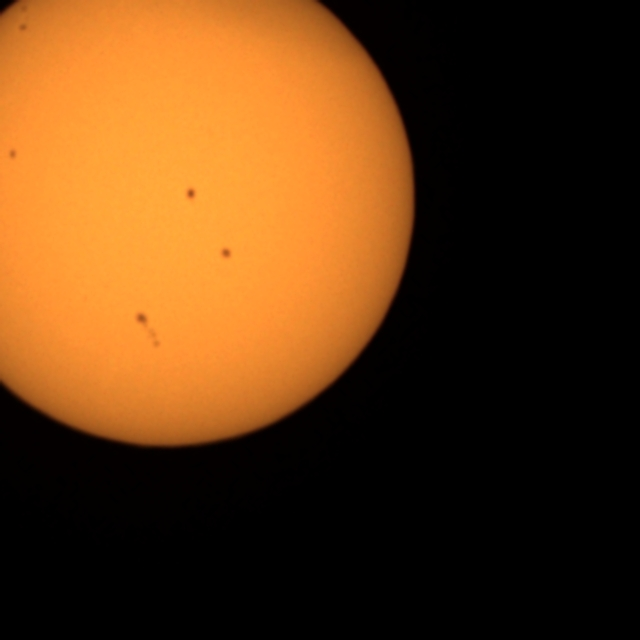sunspot: (132, 309, 162, 352), (15, 9, 30, 36), (183, 185, 199, 204), (218, 245, 234, 262), (5, 146, 20, 163), (17, 21, 29, 34)
